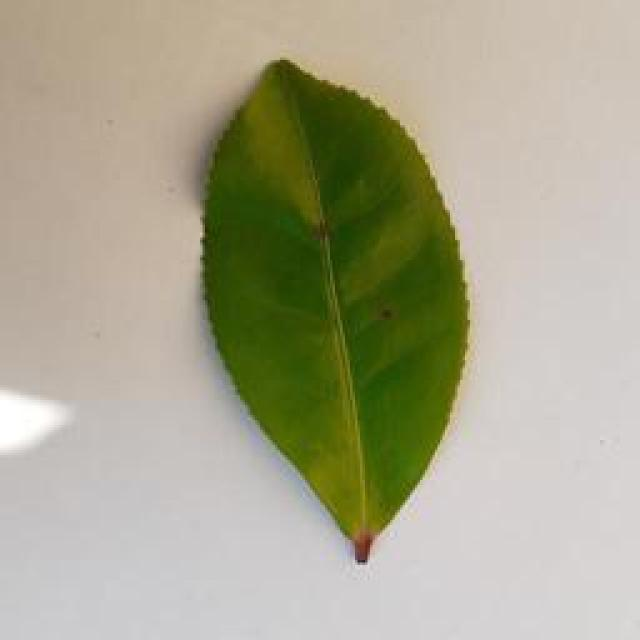Healthy: (171, 39, 482, 585)
